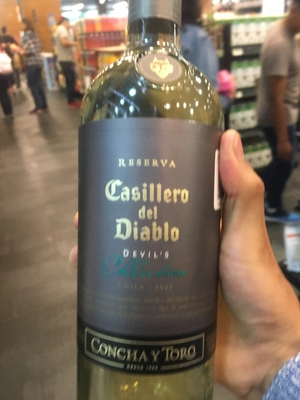casillero del diablo devils collection verde: (74, 9, 232, 400)
